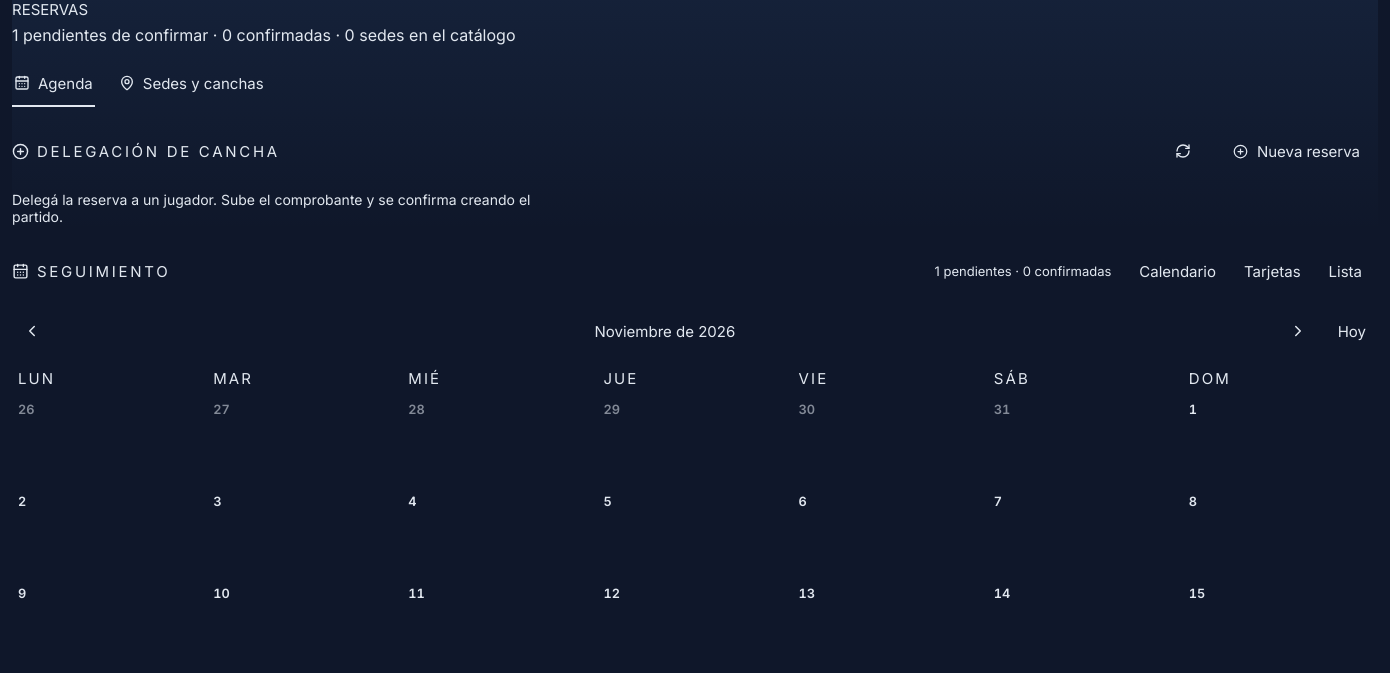
Scenario: Reservas UI keeps confirmation rules › calendar shows the reservation and the day detail opens its card
This screenshot has width=1390, height=673.
Click the button "Calendario" at (1178, 271), box [1127, 253, 1228, 289]
(page scrolled)
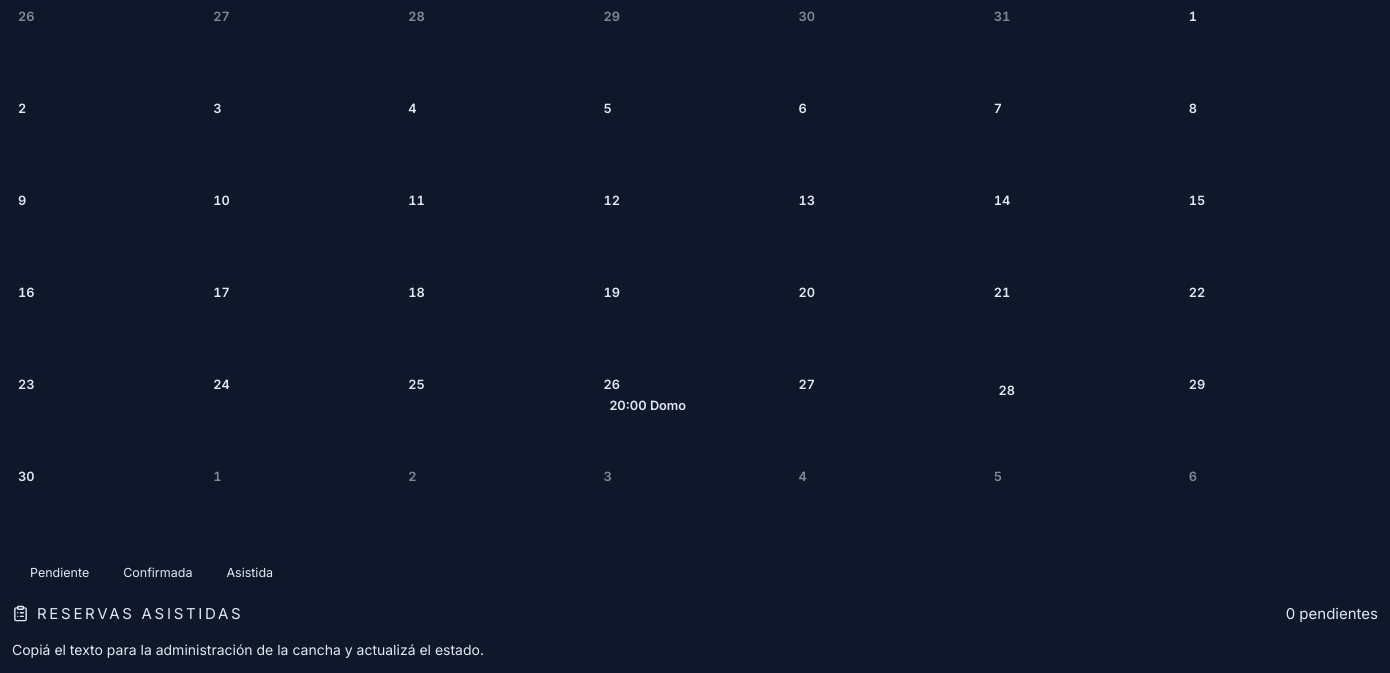
Click the cell named "26, 1 reserva" at (695, 417), box [597, 371, 792, 463]
(page scrolled)
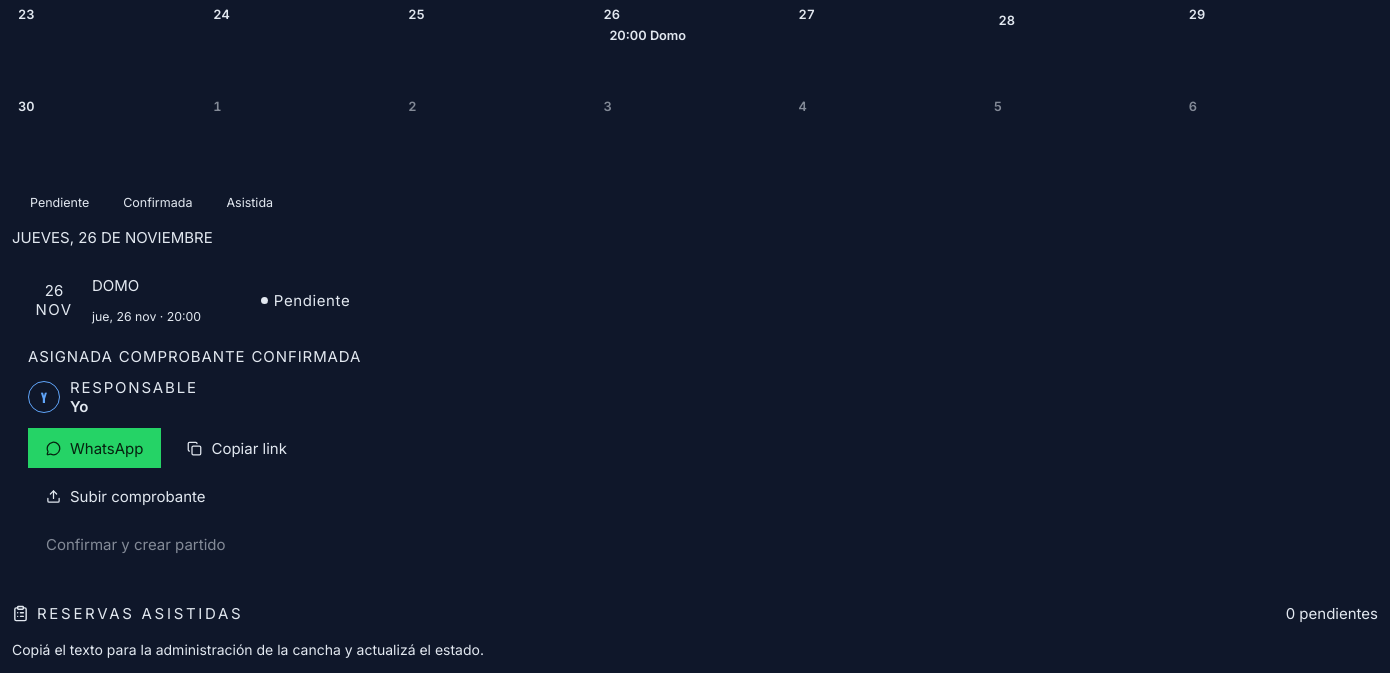
Now the element named "Reserva Domo" is shown, box [12, 259, 343, 580]
